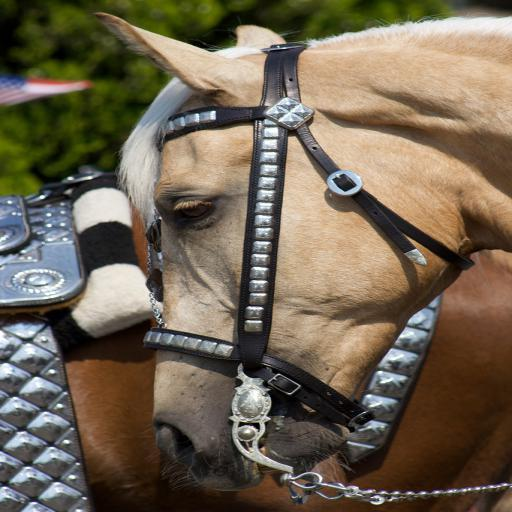horse: (90, 12, 512, 492), (0, 170, 511, 511)
